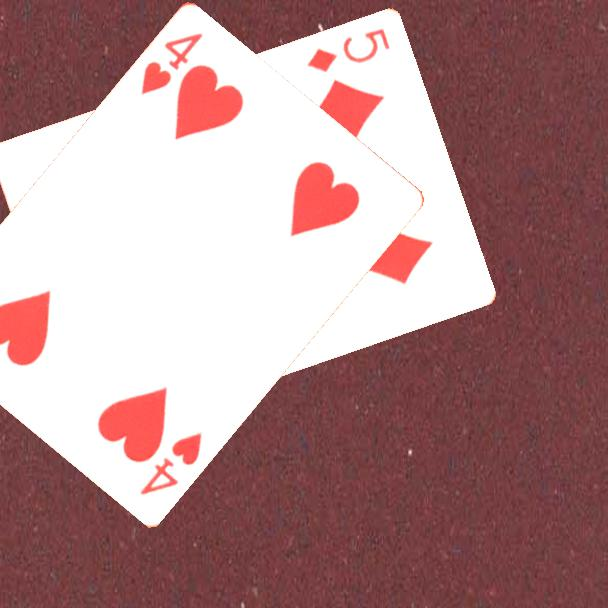d05: (303, 25, 393, 76)
h04: (136, 427, 205, 498), (137, 28, 206, 98)
